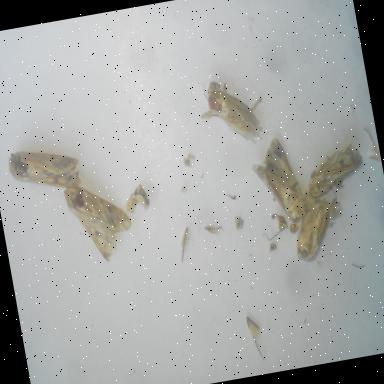abw: (60, 174, 140, 270), (244, 130, 312, 232), (196, 74, 272, 158), (3, 135, 88, 205), (283, 188, 347, 270), (297, 136, 373, 204)
